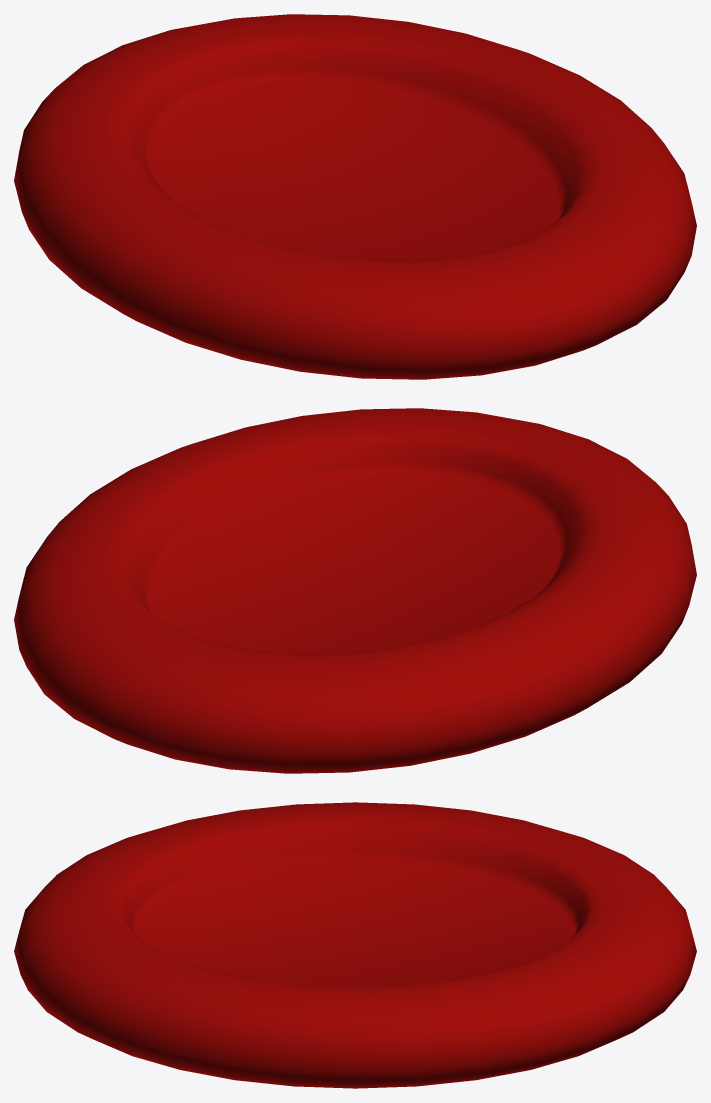
The model's file is red Blood Cell.glb.
The picture shows the model from 3 angles, top to bottom: view 1: azimuth 30°, elevation 25°; view 2: azimuth 150°, elevation 25°; view 3: azimuth 270°, elevation 25°; orthographic projection. The views are drawn at different scales.
Visible parts, largest first — view 1: Cylinder; view 2: Cylinder; view 3: Cylinder.
Part boxes in pixels (left/top/right/bottom): Cylinder: left=14, top=14, right=696, bottom=379; Cylinder: left=14, top=408, right=696, bottom=773; Cylinder: left=14, top=802, right=696, bottom=1088.
Size of the model in its own units: 2.09 by 0.338 by 2.52.
